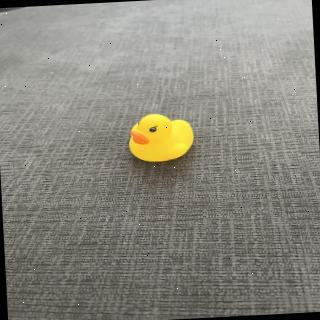duck_regular: (127, 111, 200, 167)
